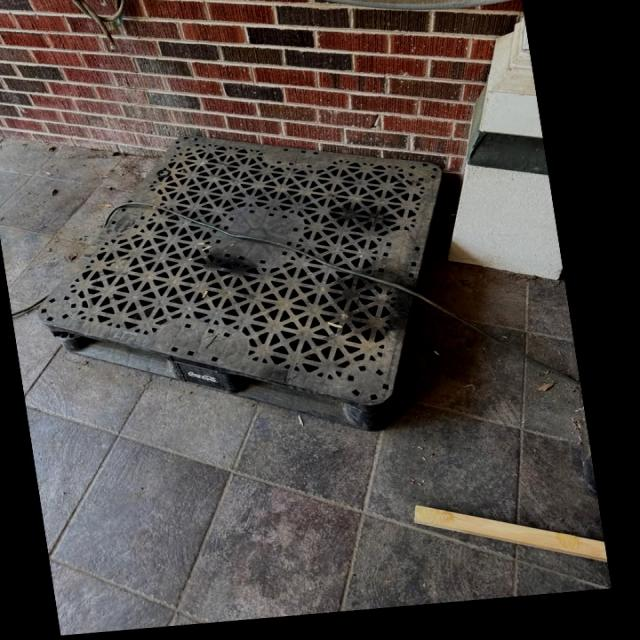non-igps: (33, 130, 452, 441)
